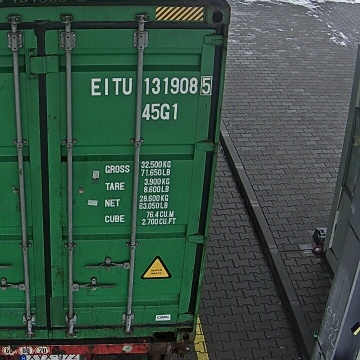serial_id: (92, 77, 210, 95)
